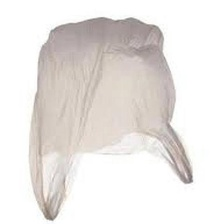plastic_bag: (27, 13, 200, 224)
